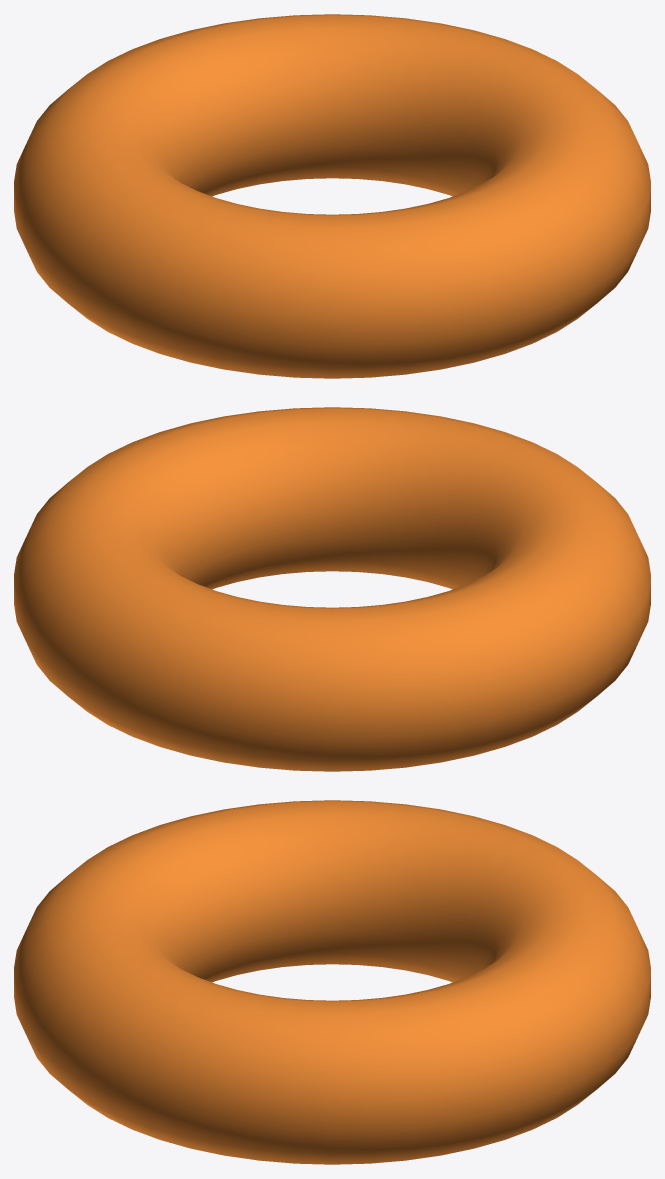
The model's file is 06_ドーナツ.obj.
3 views of the same model, one above another, from view 1: azimuth 30°, elevation 25°; view 2: azimuth 150°, elevation 25°; view 3: azimuth 270°, elevation 25° (orthographic).
Parts seen in each view (by area): view 1: torus; view 2: torus; view 3: torus.
Boxes of the visible parts, <box> form: torus: <box>14,14,650,378</box>; torus: <box>14,407,650,771</box>; torus: <box>14,800,650,1164</box>.
Size of the model in its own units: 13.43 by 3.43 by 13.43.
